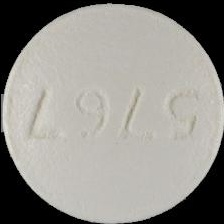42254-203: (0, 0, 224, 224)
